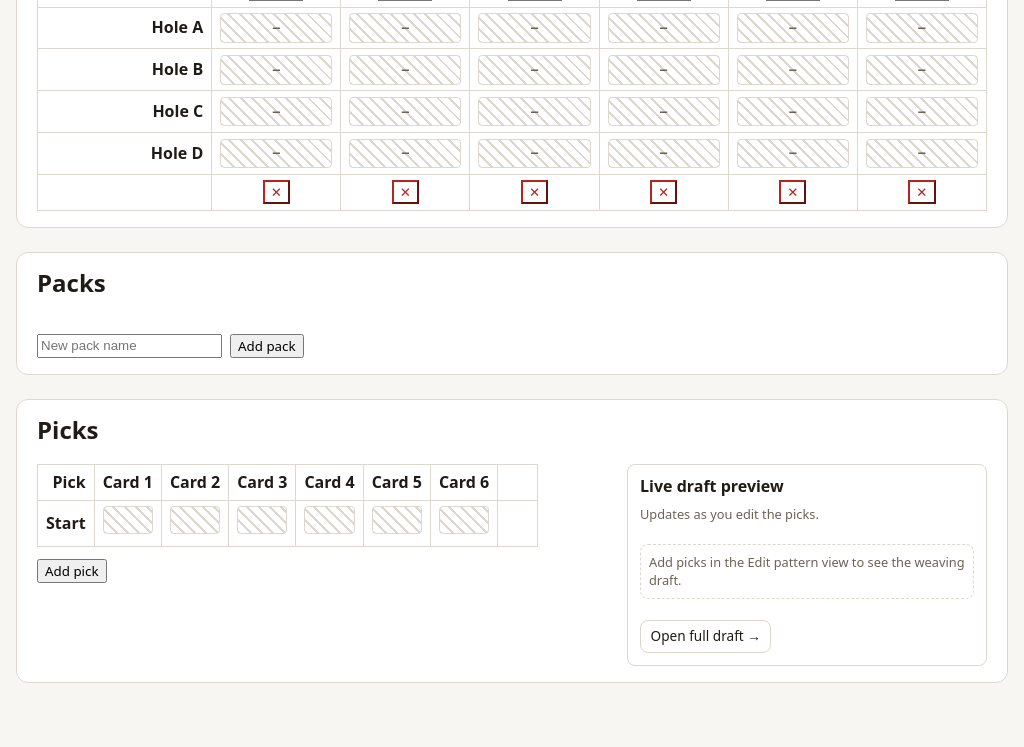
Scenario: EditPatternPage › the live draft preview updates immediately when a pick cell changes
(page scrolled)
Expected: the heading "Live draft preview" is shown, [640,475,784,497]
Click the button "Add pick" at x=72, y=571, box [37,559,106,583]
(page scrolled)
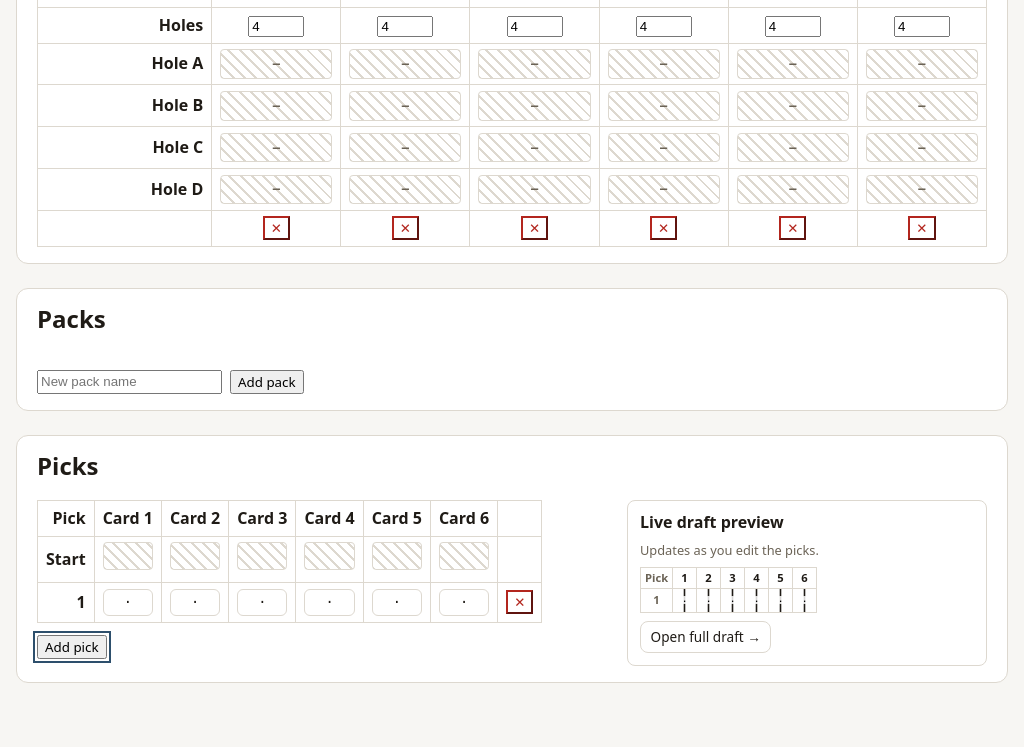
Expected: the 1st element titled "Pick 1, card 1, |" is shown, [673,588,696,612]
Click the button named "Pick 1 card 1 action" at x=128, y=602, box [103,589,153,616]
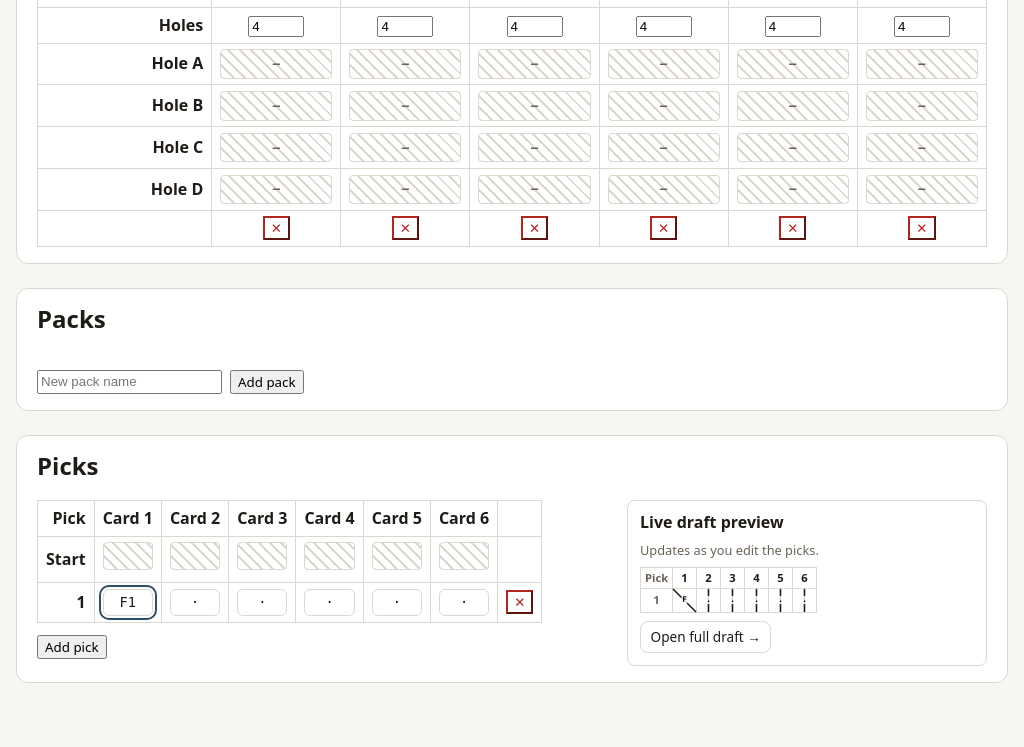
Expected: the element titled "Pick 1, card 1, \\" is shown, [673,588,696,612]
